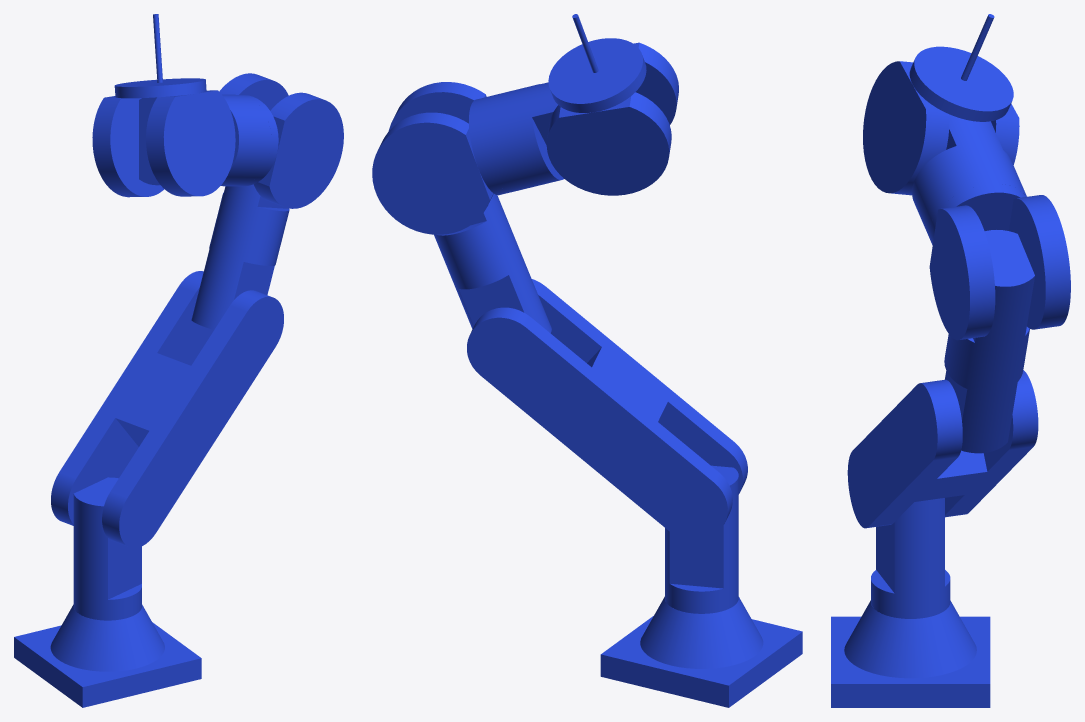
File: Robot Arm.fbx
3 views of the same model, side by side, from view 1: azimuth 30°, elevation 25°; view 2: azimuth 150°, elevation 25°; view 3: azimuth 270°, elevation 25° (orthographic). The views are drawn at different scales.
Visible parts, largest first — view 1: color; view 2: color; view 3: color.
Part boxes in pixels (box(x1,y1,x2,y2)): color: box(14, 14, 343, 707); color: box(372, 14, 802, 707); color: box(831, 14, 1070, 707).
Size of the model in its own units: 41.16 by 74.6 by 22.97.
